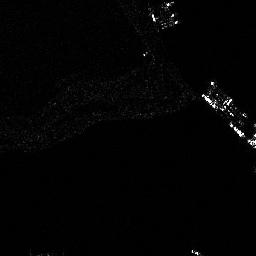ship: (200, 92, 220, 111), (229, 122, 246, 138)
